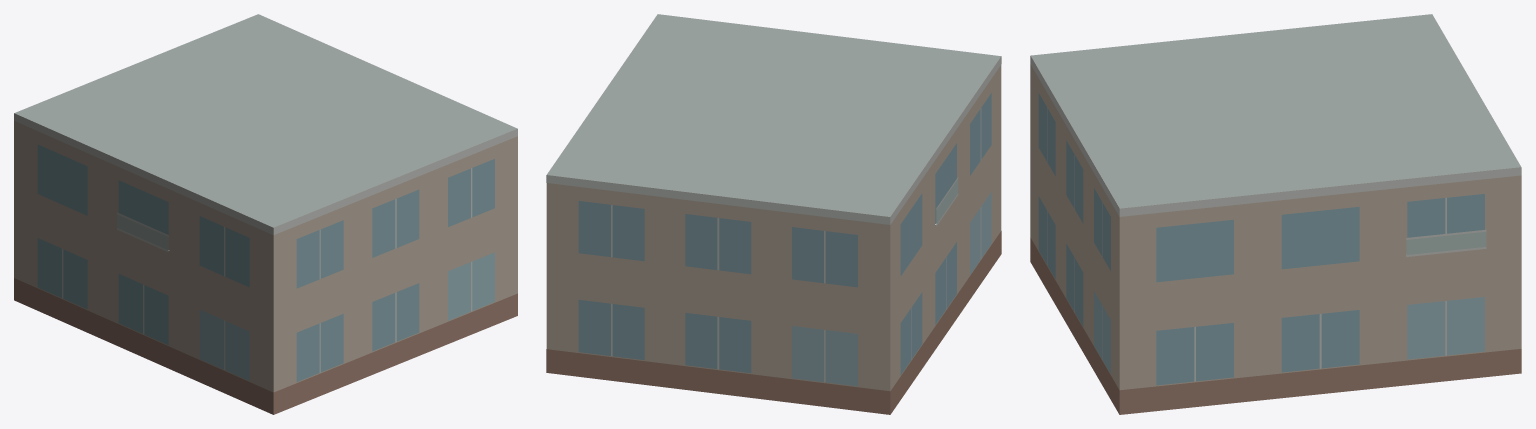
File: survey-upis-32710095.glb
3 renders of one model, left to right at view 1: azimuth 30°, elevation 25°; view 2: azimuth 150°, elevation 25°; view 3: azimuth 270°, elevation 25°, orthographic. The views are drawn at different scales.
Visible parts, largest first — view 1: survey-upis-32710095.tmp; view 2: survey-upis-32710095.tmp; view 3: survey-upis-32710095.tmp.
Part boxes in pixels (x1=…): survey-upis-32710095.tmp: x1=14, y1=14, x2=517, y2=414; survey-upis-32710095.tmp: x1=546, y1=14, x2=1001, y2=414; survey-upis-32710095.tmp: x1=1030, y1=14, x2=1521, y2=414.
Bounding box in the file's own units: 12.36 × 6.1 × 13.18.
